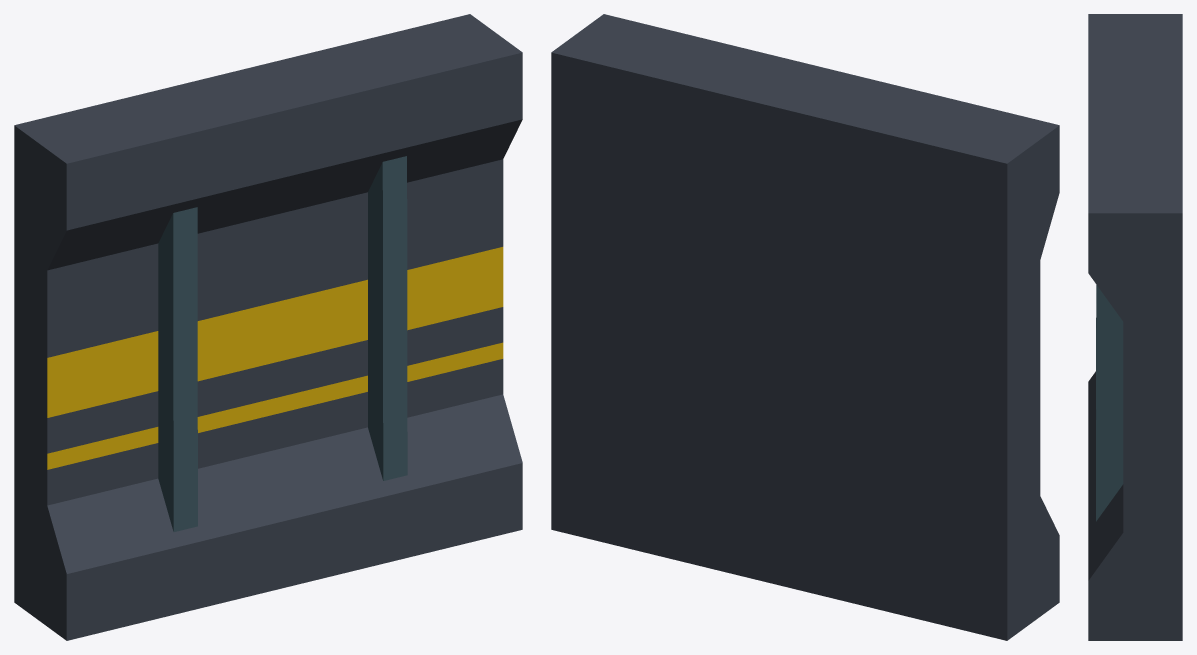
Rendered from Sci-fi_wall_straight.fbx.
The picture shows the model from 3 angles, left to right: view 1: azimuth 30°, elevation 25°; view 2: azimuth 150°, elevation 25°; view 3: azimuth 270°, elevation 25°; orthographic projection. The views are drawn at different scales.
Parts seen in each view (by area): view 1: Sci-fi_wall.004; view 2: Sci-fi_wall.004; view 3: Sci-fi_wall.004.
Part boxes in pixels (left/top/right/bottom): Sci-fi_wall.004: left=14, top=14, right=522, bottom=640; Sci-fi_wall.004: left=551, top=14, right=1059, bottom=640; Sci-fi_wall.004: left=1088, top=14, right=1182, bottom=640.
Bounding box in the file's own units: 2 × 2 × 0.4.
